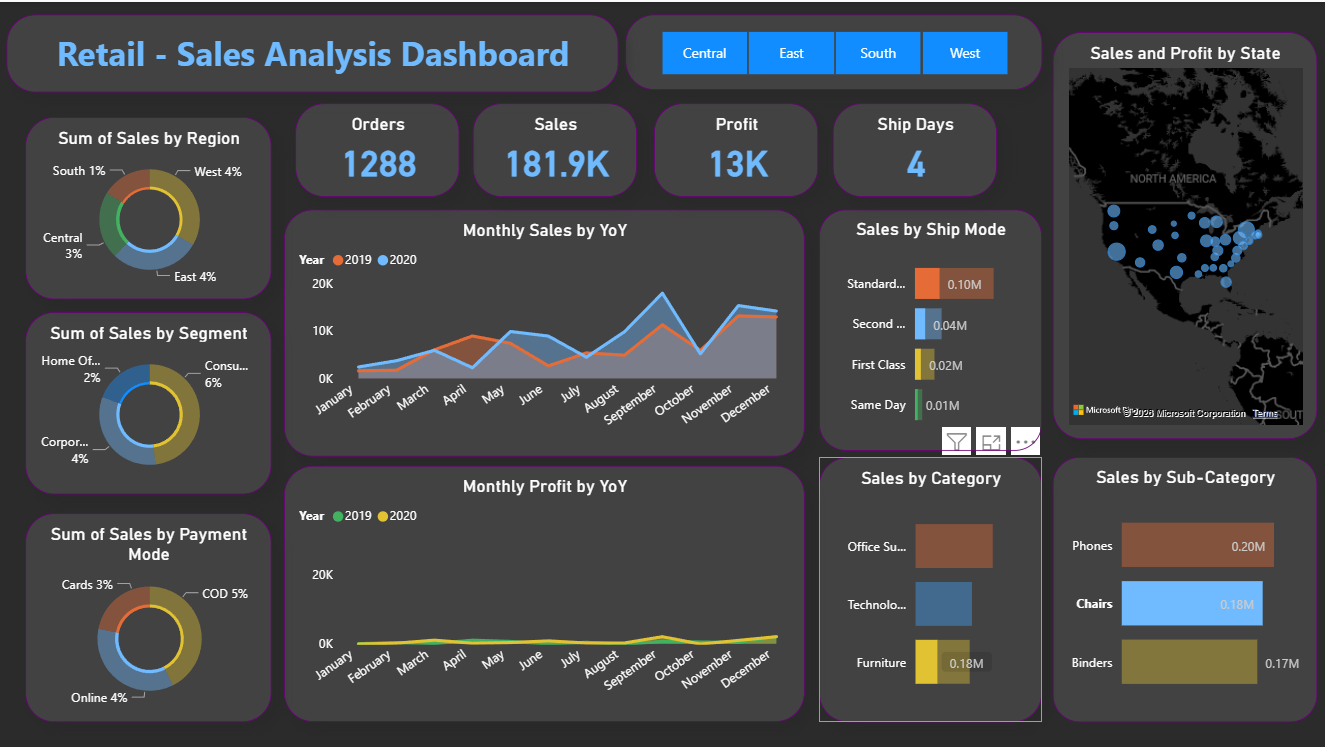

Layout of this report page (visuals, bound fields, positions):
{"tool":"powerbi","page":{"name":" Main page ","canvas":[1280,720],"ordinal":0},"visuals":[{"type":"clusteredBarChart","title":"Sales by Category","fields":{"Category":["SuperStore_Sales_Dataset.Category"],"Y":["Sum(SuperStore_Sales_Dataset.Sales)","Sum(SuperStore_Sales_Dataset.Sales)"]},"box":[791.2,438.8,215,256.2],"z":0},{"type":"clusteredBarChart","title":"Sales by Sub-Category","fields":{"Category":["SuperStore_Sales_Dataset.Sub-Category"],"Y":["Sum(SuperStore_Sales_Dataset.Sales)"]},"box":[1016.2,438.8,255,256.2],"z":1000},{"type":"clusteredBarChart","title":"Sales by Ship Mode","fields":{"Y":["Sum(SuperStore_Sales_Dataset.Sales)"],"Category":["SuperStore_Sales_Dataset.Ship Mode"]},"box":[791.2,200,215,232.5],"z":2000},{"type":"areaChart","title":"Monthly Sales by YoY","fields":{"Y":["Sum(SuperStore_Sales_Dataset.Sales)"],"Series":["SuperStore_Sales_Dataset.Order Date.Variation.Date Hierarchy.Year"],"Category":["SuperStore_Sales_Dataset.Order Date.Variation.Date Hierarchy.Month","SuperStore_Sales_Dataset.Order Date.Variation.Date Hierarchy.Day"]},"box":[275,200,502.5,238.8],"z":3000},{"type":"areaChart","title":"Monthly Profit by YoY","fields":{"Series":["SuperStore_Sales_Dataset.Order Date.Variation.Date Hierarchy.Year"],"Category":["SuperStore_Sales_Dataset.Order Date.Variation.Date Hierarchy.Month","SuperStore_Sales_Dataset.Order Date.Variation.Date Hierarchy.Day"],"Y":["Sum(SuperStore_Sales_Dataset.Profit)"]},"box":[275,447.5,502.5,247.5],"z":4000},{"type":"map","title":"Sales and Profit by State","fields":{"Category":["SuperStore_Sales_Dataset.State"],"Size":["Sum(SuperStore_Sales_Dataset.Sales)"]},"box":[1016.2,28.8,255,392.5],"z":5000},{"type":"donutChart","fields":{"Y":["Sum(SuperStore_Sales_Dataset.Sales)"],"Category":["SuperStore_Sales_Dataset.Segment"]},"box":[25,298.8,237.5,176.2],"z":6000},{"type":"donutChart","fields":{"Y":["Sum(SuperStore_Sales_Dataset.Sales)"],"Category":["SuperStore_Sales_Dataset.Payment Mode"]},"box":[25,493.8,237.5,201.2],"z":7000},{"type":"slicer","fields":{"Values":["SuperStore_Sales_Dataset.Region"]},"box":[603.8,12.5,402.5,72.5],"z":8000},{"type":"textbox","box":[7.5,12.5,590,75],"z":9000},{"type":"donutChart","fields":{"Y":["Sum(SuperStore_Sales_Dataset.Sales)"],"Category":["SuperStore_Sales_Dataset.Region"]},"box":[25,111.2,237.5,176.2],"z":10000},{"type":"card","title":"Sales","fields":{"Values":["Sum(SuperStore_Sales_Dataset.Sales)"]},"box":[457.5,97.5,158.8,90],"z":11000},{"type":"card","title":"Profit","fields":{"Values":["Sum(SuperStore_Sales_Dataset.Profit)"]},"box":[632.5,97.5,158.8,90],"z":12000},{"type":"card","title":"Orders","fields":{"Values":["Sum(SuperStore_Sales_Dataset.Quantity)"]},"box":[286.2,97.5,158.8,90],"z":13000},{"type":"card","title":"Ship Days","fields":{"Values":["Avg(SuperStore_Sales_Dataset.AvgDelivery)"]},"box":[805,97.5,158.8,90],"z":14000}]}

Visuals, with their boxes in screenshot pixels (x1, y1, x2, y2), scaled from the page's 1280x720 canvas onto the 1325x747 screenshot:
"Sales by Category" clusteredBarChart: crop(819, 455, 1042, 721)
"Sales by Sub-Category" clusteredBarChart: crop(1052, 455, 1316, 721)
"Sales by Ship Mode" clusteredBarChart: crop(819, 208, 1042, 449)
"Monthly Sales by YoY" areaChart: crop(285, 208, 805, 455)
"Monthly Profit by YoY" areaChart: crop(285, 464, 805, 721)
"Sales and Profit by State" map: crop(1052, 30, 1316, 437)
donutChart - Sum(SuperStore_Sales_Dataset.Sales) x SuperStore_Sales_Dataset.Segment: crop(26, 310, 272, 493)
donutChart - Sum(SuperStore_Sales_Dataset.Sales) x SuperStore_Sales_Dataset.Payment Mode: crop(26, 512, 272, 721)
slicer - SuperStore_Sales_Dataset.Region: crop(625, 13, 1042, 88)
textbox: crop(8, 13, 619, 91)
donutChart - Sum(SuperStore_Sales_Dataset.Sales) x SuperStore_Sales_Dataset.Region: crop(26, 115, 272, 298)
"Sales" card: crop(474, 101, 638, 195)
"Profit" card: crop(655, 101, 819, 195)
"Orders" card: crop(296, 101, 461, 195)
"Ship Days" card: crop(833, 101, 998, 195)
